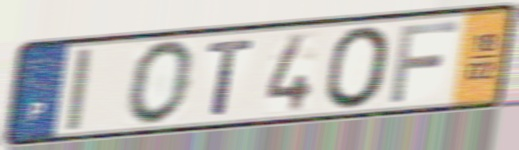4: (264, 30, 316, 114)
F: (387, 18, 462, 105)
I: (63, 45, 95, 134)
O: (125, 38, 198, 128), (324, 23, 394, 111)
T: (205, 36, 258, 118)
